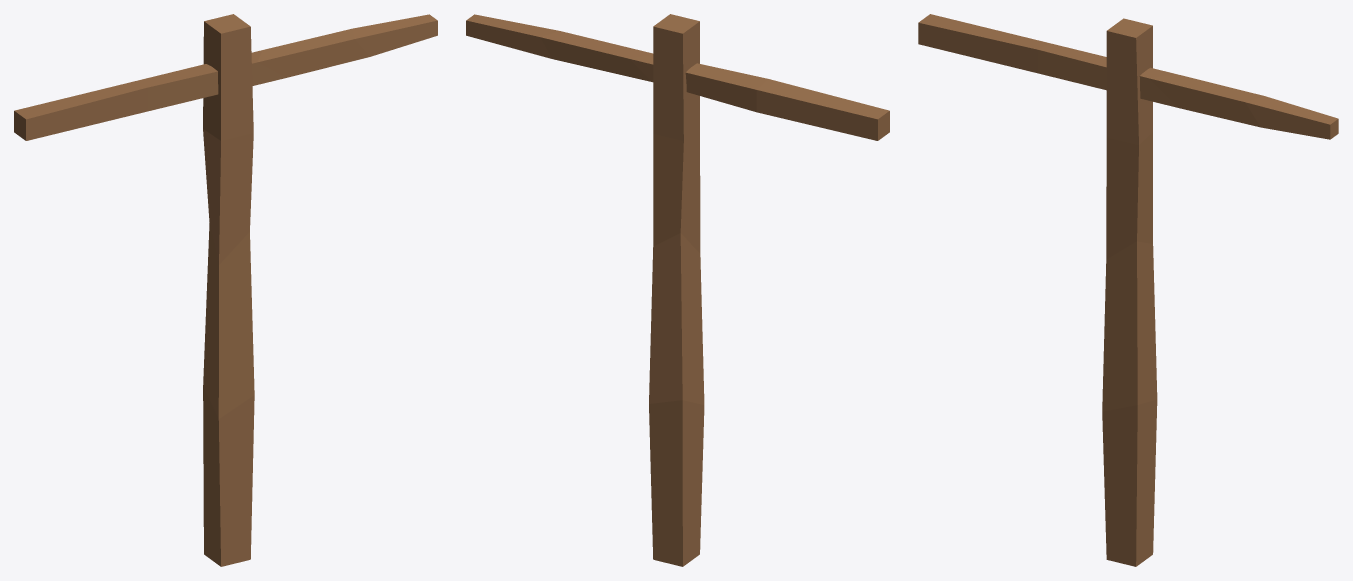
The model's file is SummitCross_1.fbx.
The picture shows the model from 3 angles, left to right: view 1: azimuth 30°, elevation 25°; view 2: azimuth 150°, elevation 25°; view 3: azimuth 330°, elevation 25°; orthographic projection.
Visible parts, largest first — view 1: SummitCross_mesh; view 2: SummitCross_mesh; view 3: SummitCross_mesh.
Boxes of the visible parts, x1,y1,x2,y2 form: SummitCross_mesh: (14,14,437,566); SummitCross_mesh: (466,14,889,566); SummitCross_mesh: (918,14,1338,566).
Size of the model in its own units: 488 by 602 by 40.35.
